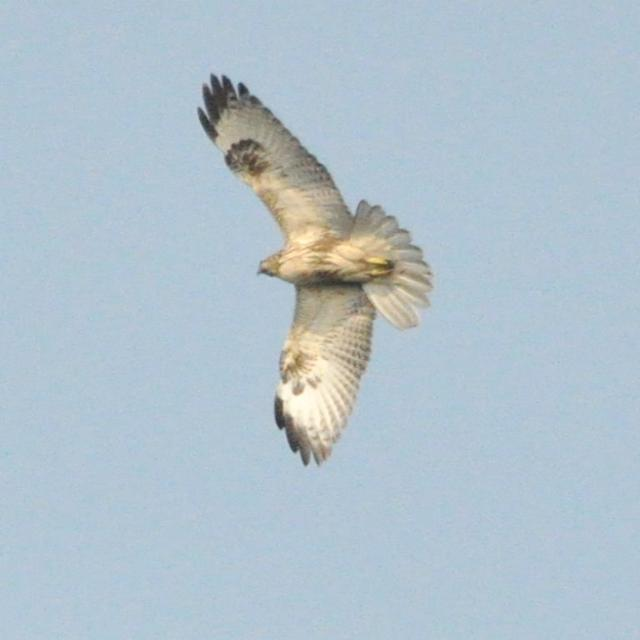bird: (187, 50, 442, 498)
